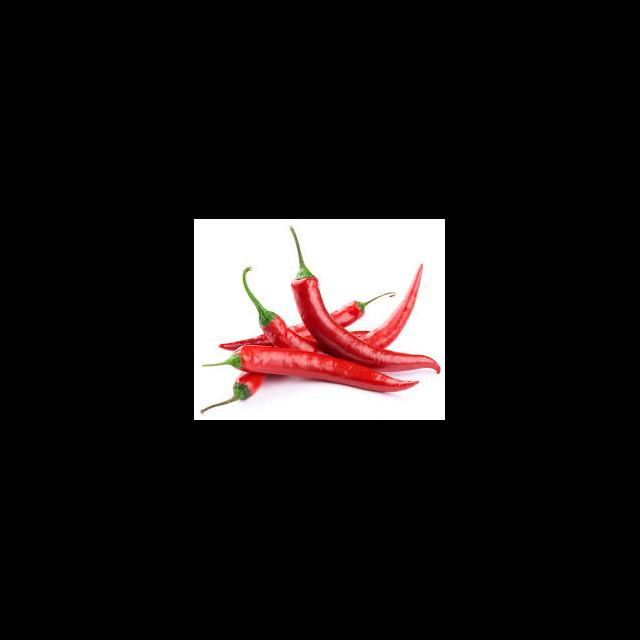chili_pepper: (292, 278, 434, 375), (199, 345, 392, 411)
